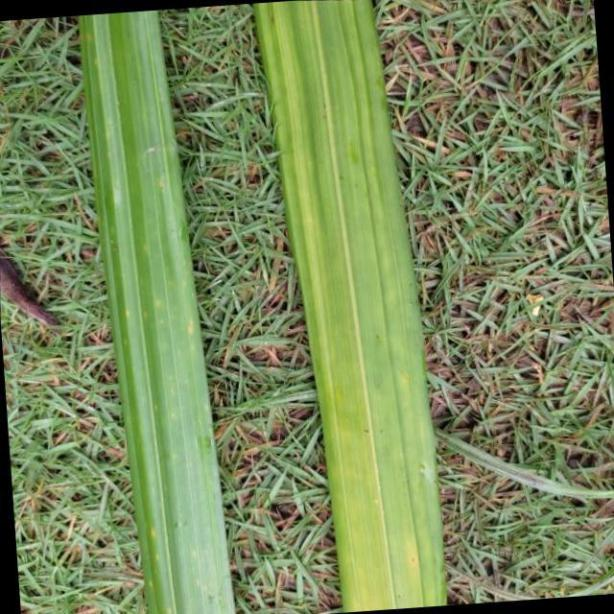nitrogen: (251, 0, 445, 614), (80, 0, 240, 614)
